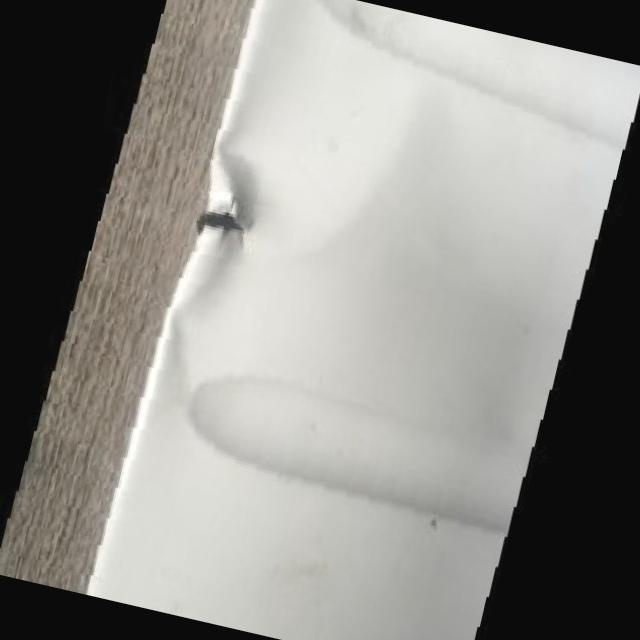crack: (185, 182, 260, 260)
